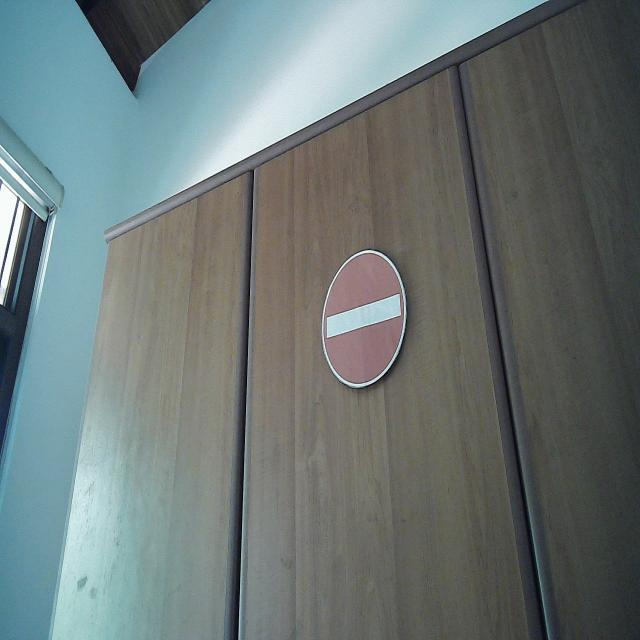no_entry: (320, 248, 408, 390)
